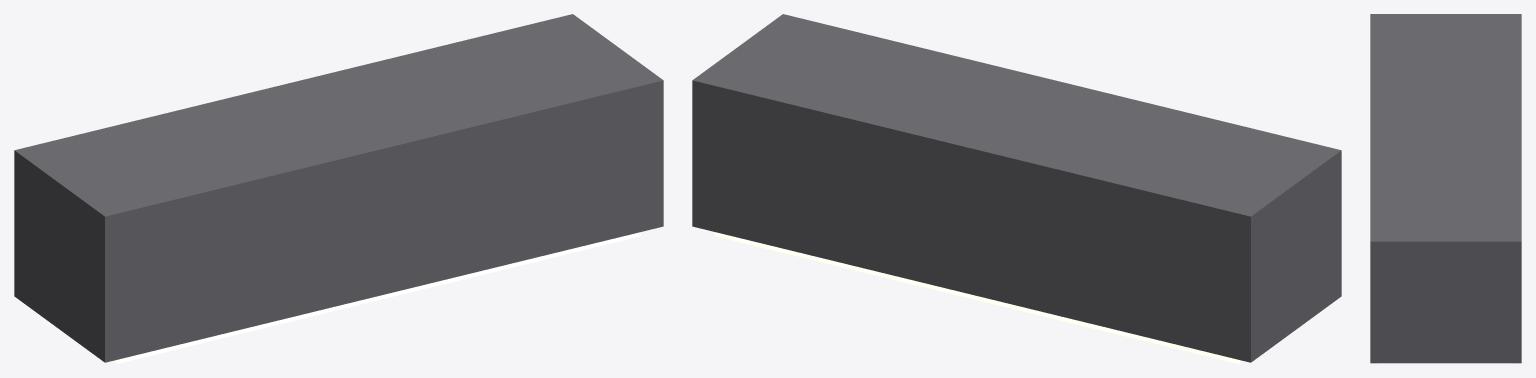
The model's file is floating-cabinet.glb.
3 renders of one model, left to right at view 1: azimuth 30°, elevation 25°; view 2: azimuth 150°, elevation 25°; view 3: azimuth 270°, elevation 25°, orthographic. The views are drawn at different scales.
Parts seen in each view (by area): view 1: CabinetBody, LedStrip; view 2: CabinetBody, LedStrip; view 3: CabinetBody.
Part boxes in pixels (x1=…): CabinetBody: x1=14, y1=14, x2=663, y2=362; LedStrip: x1=113, y1=232, x2=640, y2=363; CabinetBody: x1=692, y1=14, x2=1341, y2=362; LedStrip: x1=715, y1=232, x2=1242, y2=363; CabinetBody: x1=1370, y1=14, x2=1521, y2=363.
Size of the model in its own units: 1.6 by 0.425 by 0.45.
